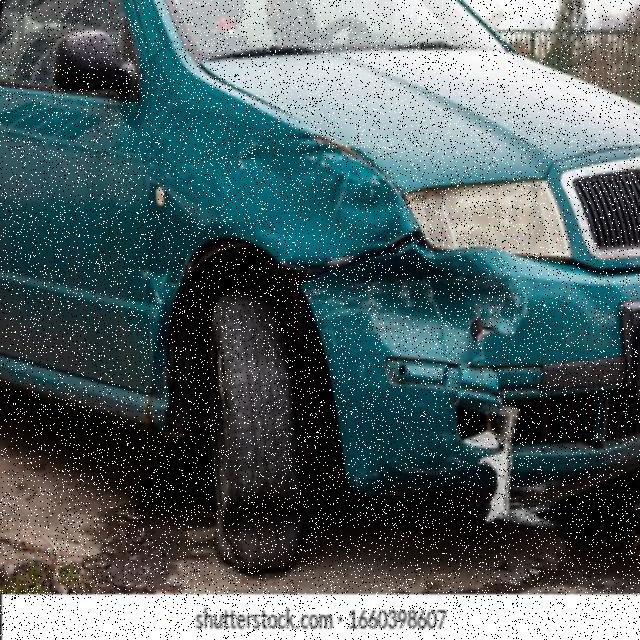fender-dent: (140, 110, 388, 266)
front-bumper-dent: (307, 229, 638, 496)
